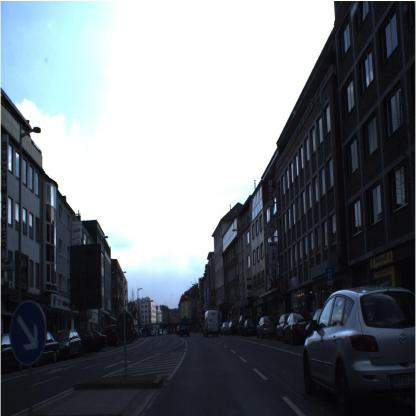mandatory: (5, 296, 48, 369)
